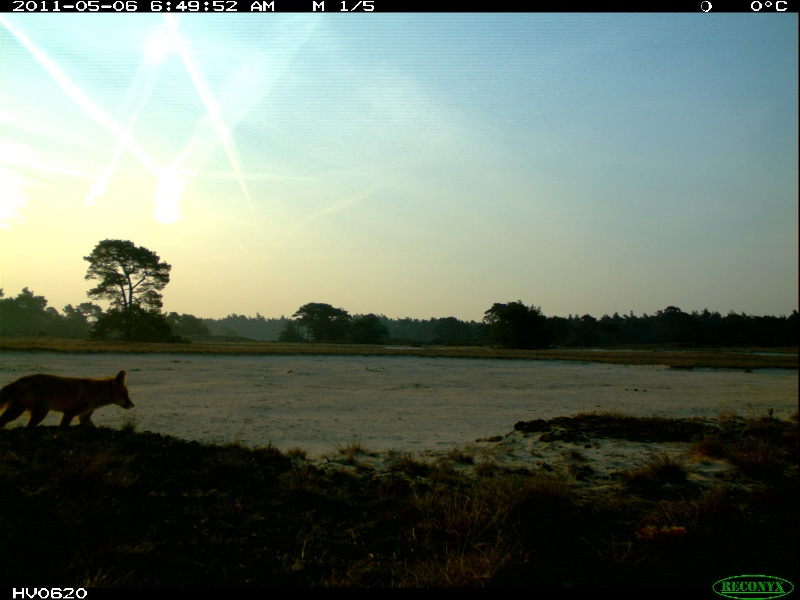fox: (1, 360, 143, 435)
